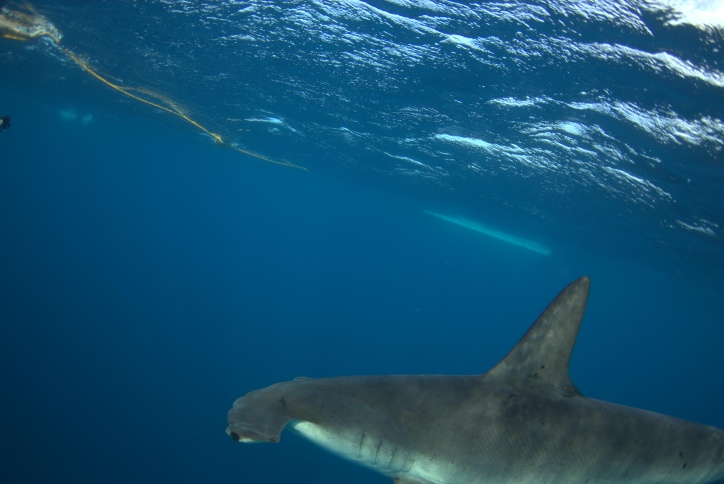Hammer: (184, 264, 722, 484)
